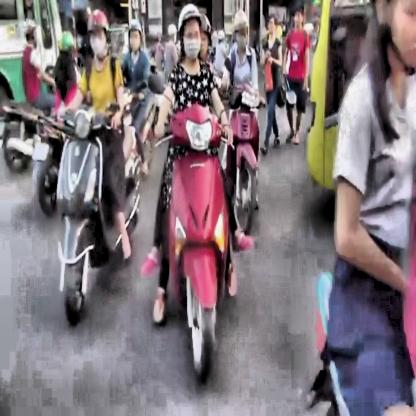wear: (176, 0, 204, 63), (86, 8, 112, 60), (233, 10, 251, 50), (128, 18, 144, 57), (58, 29, 77, 58), (22, 19, 40, 46), (267, 12, 280, 38)
